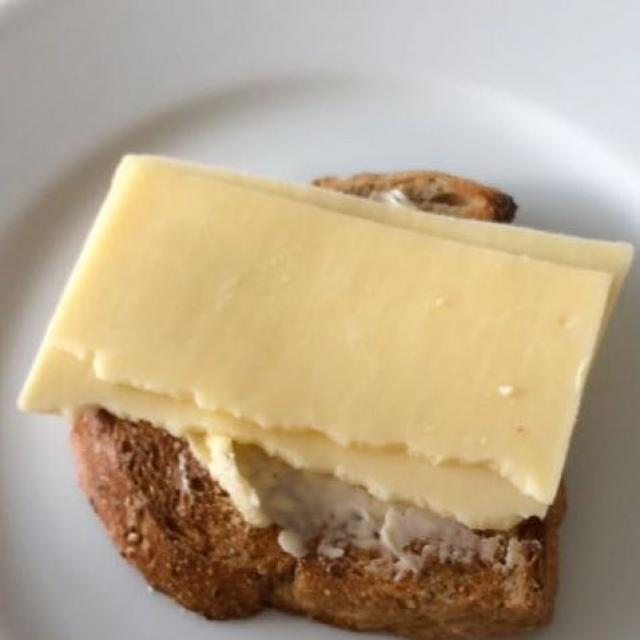bread: (33, 160, 606, 627)
butter: (207, 421, 558, 573)
cheese: (12, 146, 625, 533)
